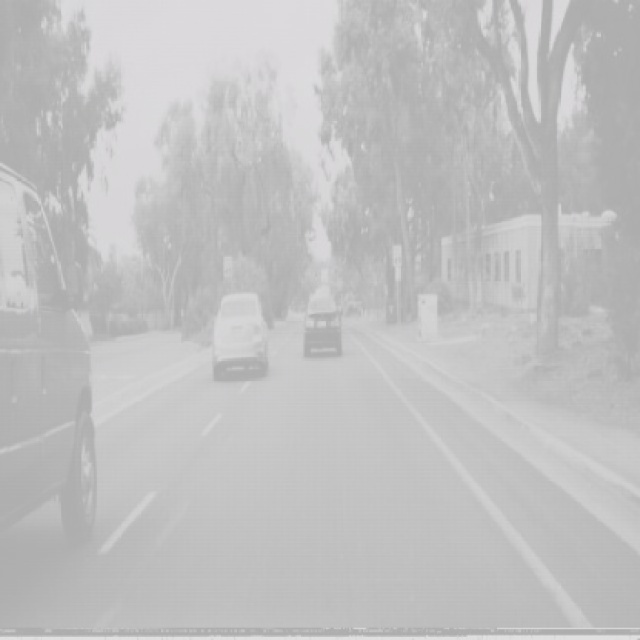speedLimit45: (392, 243, 402, 266), (223, 256, 233, 278)
